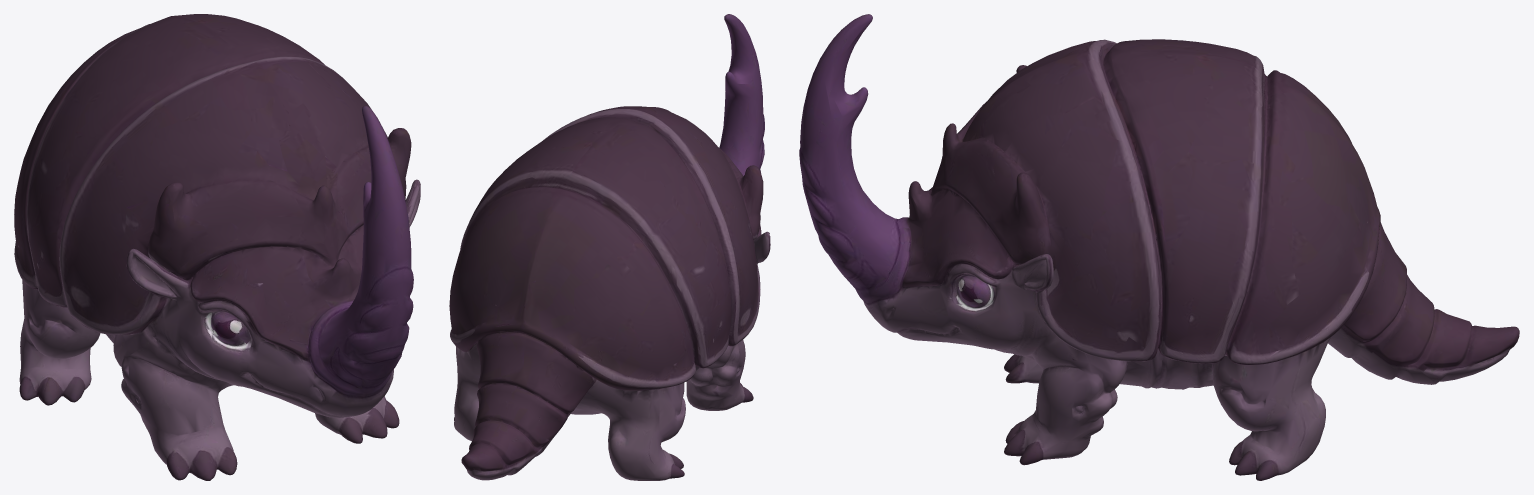
The model's file is pebbit.glb.
3 renders of one model, left to right at view 1: azimuth 30°, elevation 25°; view 2: azimuth 150°, elevation 25°; view 3: azimuth 270°, elevation 25°, orthographic. The views are drawn at different scales.
Visible parts, largest first — view 1: Mesh_0; view 2: Mesh_0; view 3: Mesh_0.
Part boxes in pixels (bbox=[...]): Mesh_0: bbox=[14, 14, 420, 480]; Mesh_0: bbox=[449, 14, 770, 480]; Mesh_0: bbox=[799, 14, 1519, 480].
Bounding box in the file's own units: 0.9591 × 1.16 × 1.9.
1 material, 1 textured.
